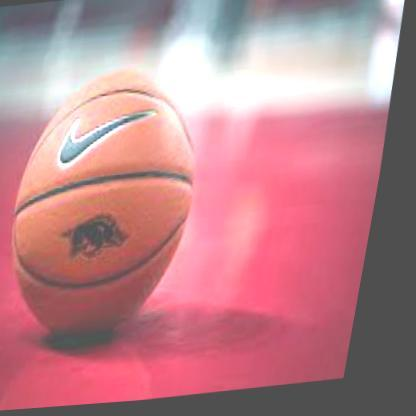basketball: (0, 67, 225, 348)
